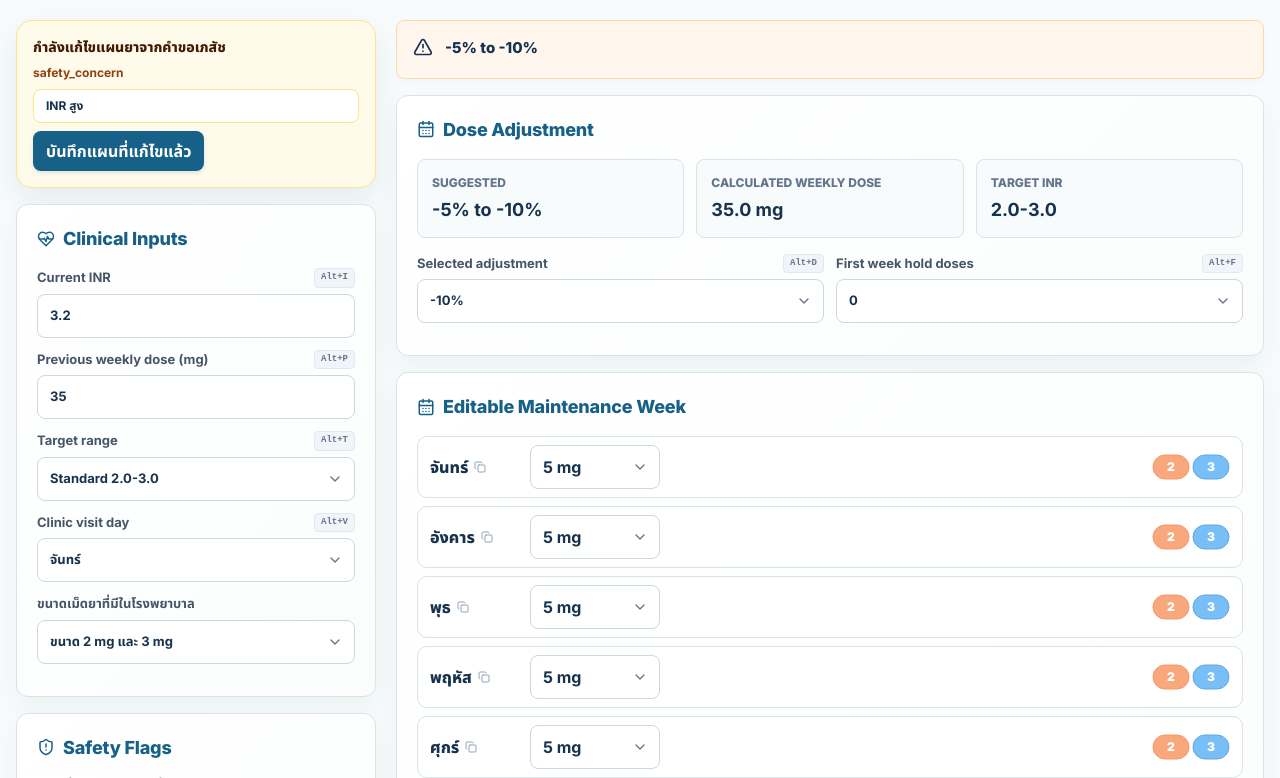
Test: StaffCoordination › saves a doctor-edited correction plan as physician revised
Expected: the heading "กำลังแก้ไขแผนยาจากคำขอเภสัช" is shown, [33,38,226,55]
Replace the text in the number field with id "inr-input" with "2.8". click: coordinates (196, 316)
box: [37,294,355,338]
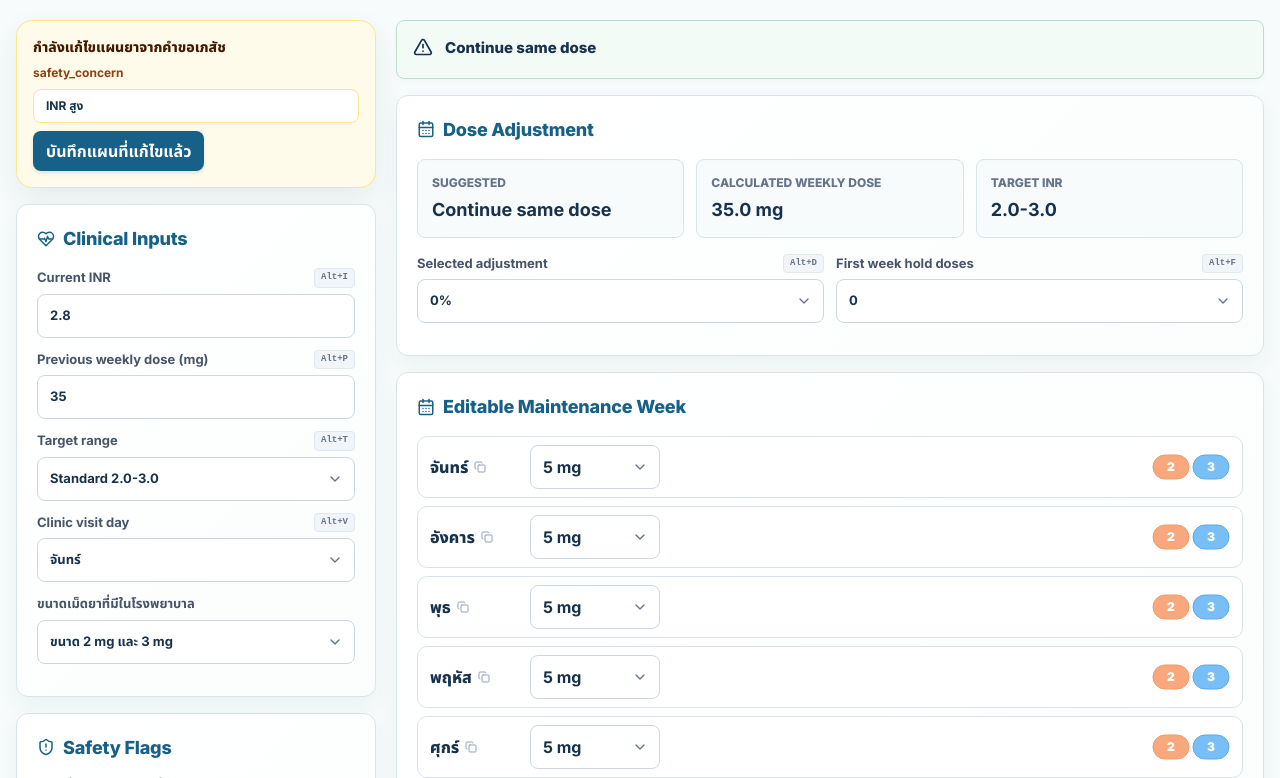
Click the button "บันทึกแผนที่แก้ไขแล้ว". click: coordinates (119, 151)
box: [33,131,204,171]
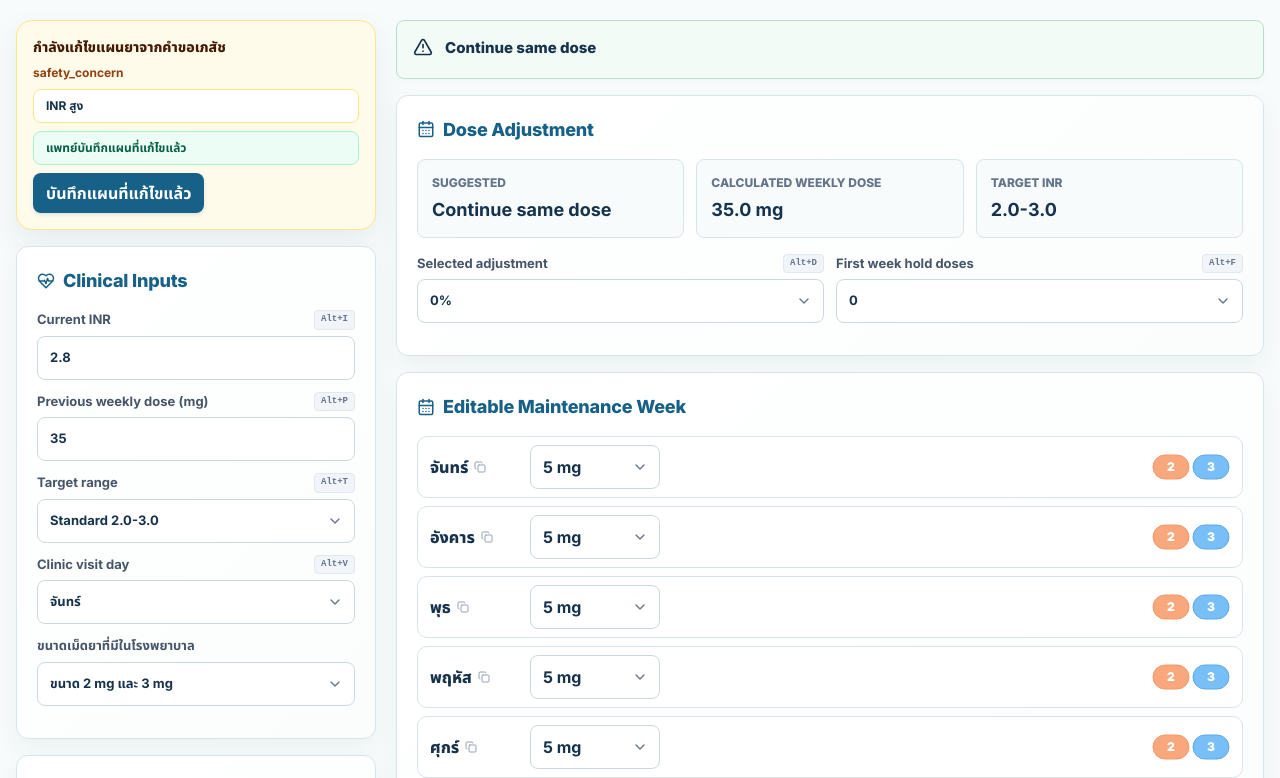
Expected: the text "แพทย์บันทึกแผนที่แก้ไขแล้ว" is shown, [33,131,359,165]
